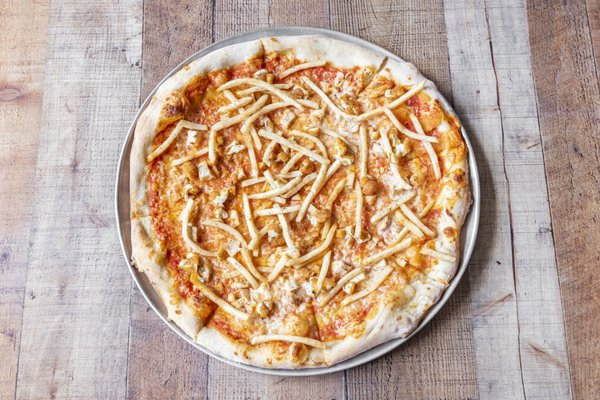curry: (7, 1, 583, 389)
sandwich: (130, 30, 471, 368)
